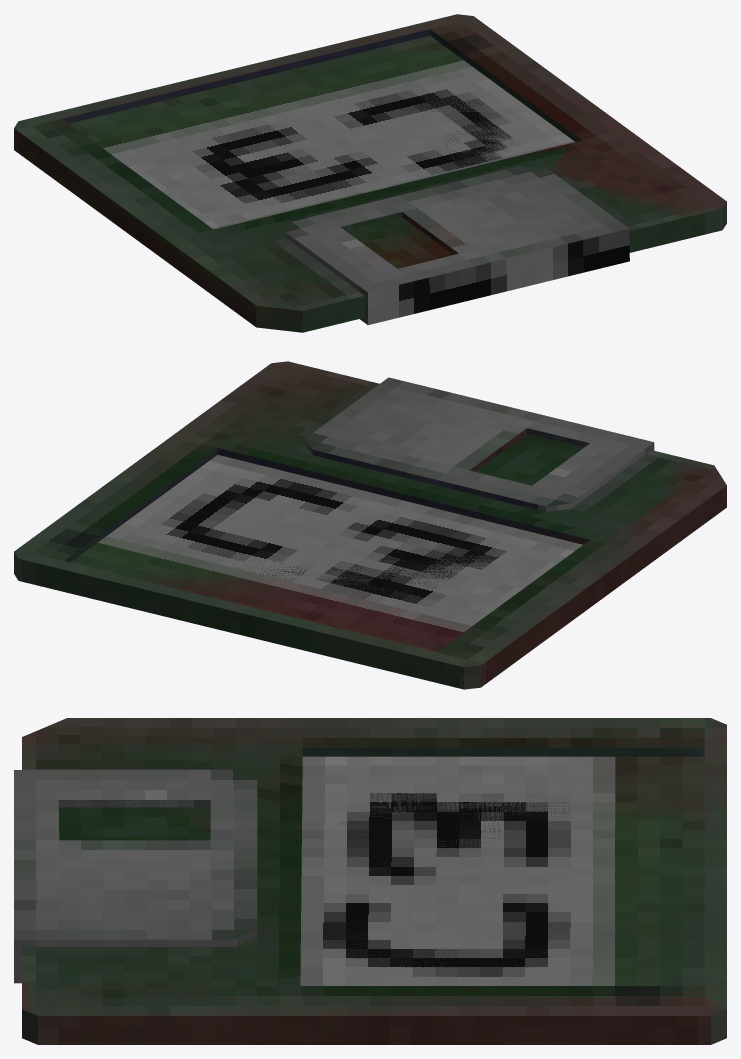
File: Disks_held.glb
3 views of the same model, one above another, from view 1: azimuth 30°, elevation 25°; view 2: azimuth 150°, elevation 25°; view 3: azimuth 270°, elevation 25° (orthographic). The views are drawn at different scales.
Visible parts, largest first — view 1: floppy_disc_2, floppy_disc_4, floppy_disc_3, floppy_disc_1; view 2: floppy_disc_2, floppy_disc_4, floppy_disc_1, floppy_disc_3; view 3: floppy_disc_2, floppy_disc_4, floppy_disc_3, floppy_disc_1.
Boxes of the visible parts, x1=… form: floppy_disc_2: x1=14, y1=14, x2=726, y2=332; floppy_disc_4: x1=14, y1=14, x2=726, y2=329; floppy_disc_3: x1=14, y1=16, x2=609, y2=326; floppy_disc_1: x1=62, y1=29, x2=511, y2=253; floppy_disc_2: x1=14, y1=361, x2=716, y2=689; floppy_disc_4: x1=83, y1=361, x2=726, y2=689; floppy_disc_1: x1=65, y1=377, x2=589, y2=648; floppy_disc_3: x1=62, y1=362, x2=660, y2=687; floppy_disc_2: x1=14, y1=718, x2=726, y2=1044; floppy_disc_4: x1=14, y1=718, x2=726, y2=1044; floppy_disc_3: x1=14, y1=718, x2=695, y2=1044; floppy_disc_1: x1=58, y1=747, x2=704, y2=1042.
Bounding box in the file's own units: 0.1267 × 0.00864 × 0.1282.
Materials: 4 (4 with a texture image).
